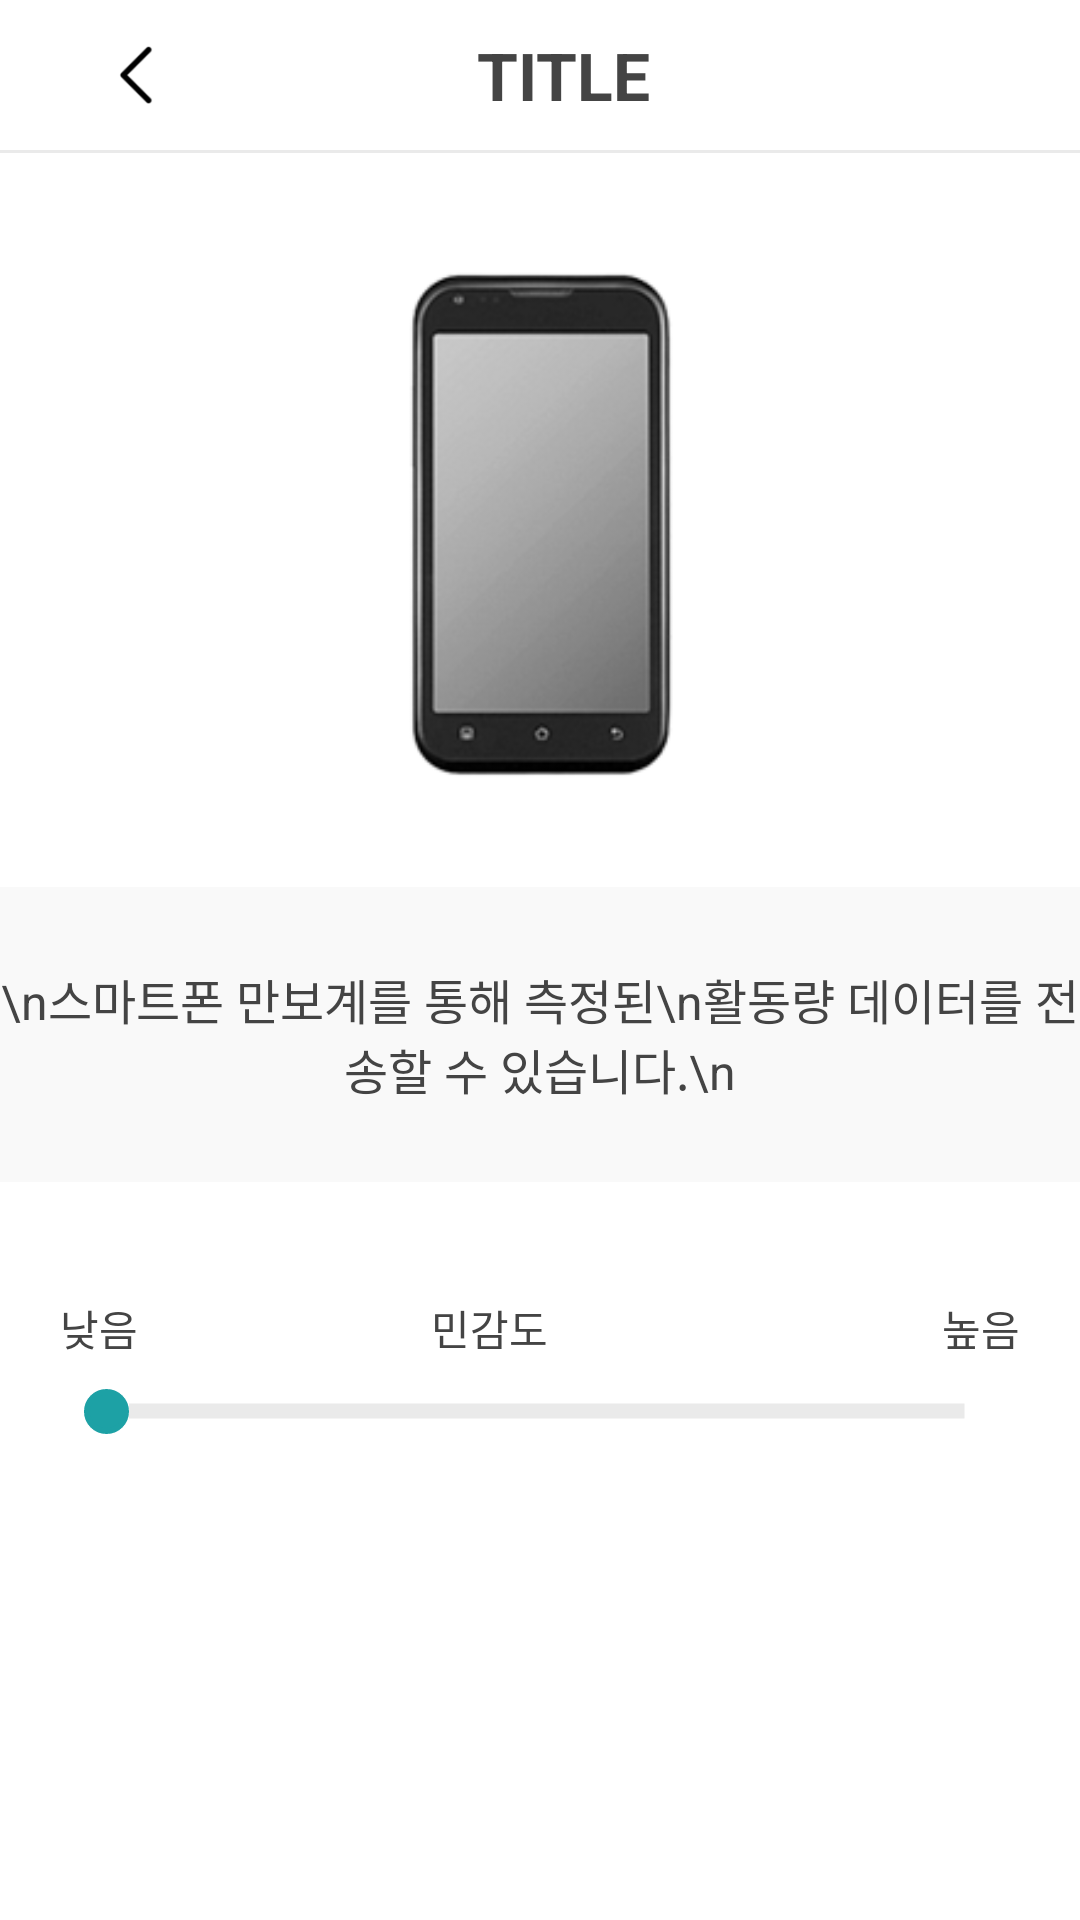

Where icons sit on this 1080w x 1920h app screen, as (x1=x1, y1=y1, x2=x2, y2=y2):
arrow left: (x1=120, y1=46, x2=152, y2=104)
